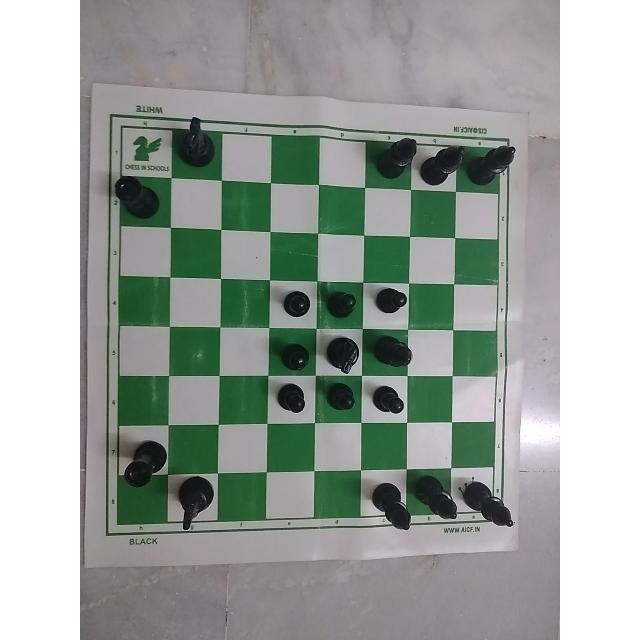black-bishop: (368, 469, 411, 543), (459, 480, 514, 536), (421, 139, 473, 193), (414, 470, 457, 535), (474, 135, 520, 190), (371, 130, 417, 182), (368, 330, 416, 376)
black-knight: (169, 471, 219, 539), (177, 115, 219, 171), (318, 332, 364, 380)
black-pawn: (369, 378, 411, 428), (280, 279, 321, 325), (324, 280, 364, 324), (273, 382, 313, 424), (277, 335, 308, 375), (374, 282, 410, 314), (322, 386, 362, 414)
black-rook: (101, 173, 165, 228), (119, 434, 167, 492)
